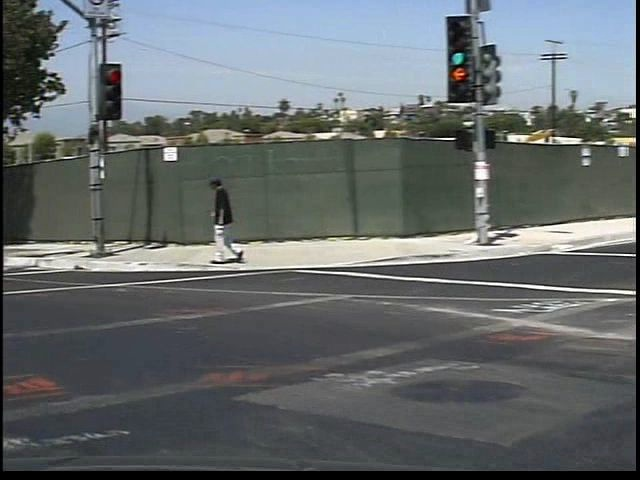person: (191, 173, 240, 282)
